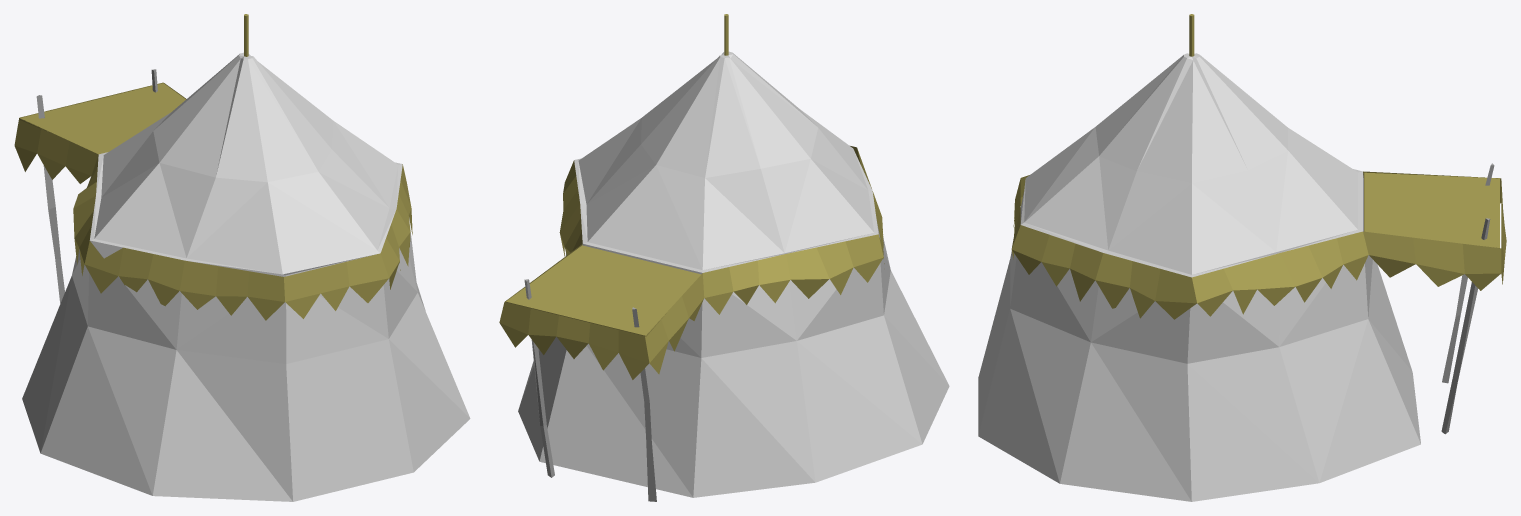
The model's file is tente.fbx.
The picture shows the model from 3 angles, left to right: view 1: azimuth 30°, elevation 25°; view 2: azimuth 150°, elevation 25°; view 3: azimuth 270°, elevation 25°; orthographic projection. The views are drawn at different scales.
Visible parts, largest first — view 1: tente_tissus, tente_angle; view 2: tente_tissus, tente_angle; view 3: tente_tissus, tente_angle.
Boxes of the visible parts, x1,y1,x2,y2 form: tente_tissus: [22, 14, 470, 501]; tente_angle: [14, 69, 412, 320]; tente_tissus: [518, 14, 949, 497]; tente_angle: [499, 146, 884, 501]; tente_tissus: [978, 14, 1420, 501]; tente_angle: [1011, 163, 1506, 434].
Bounding box in the file's own units: 337 × 320 × 388.
